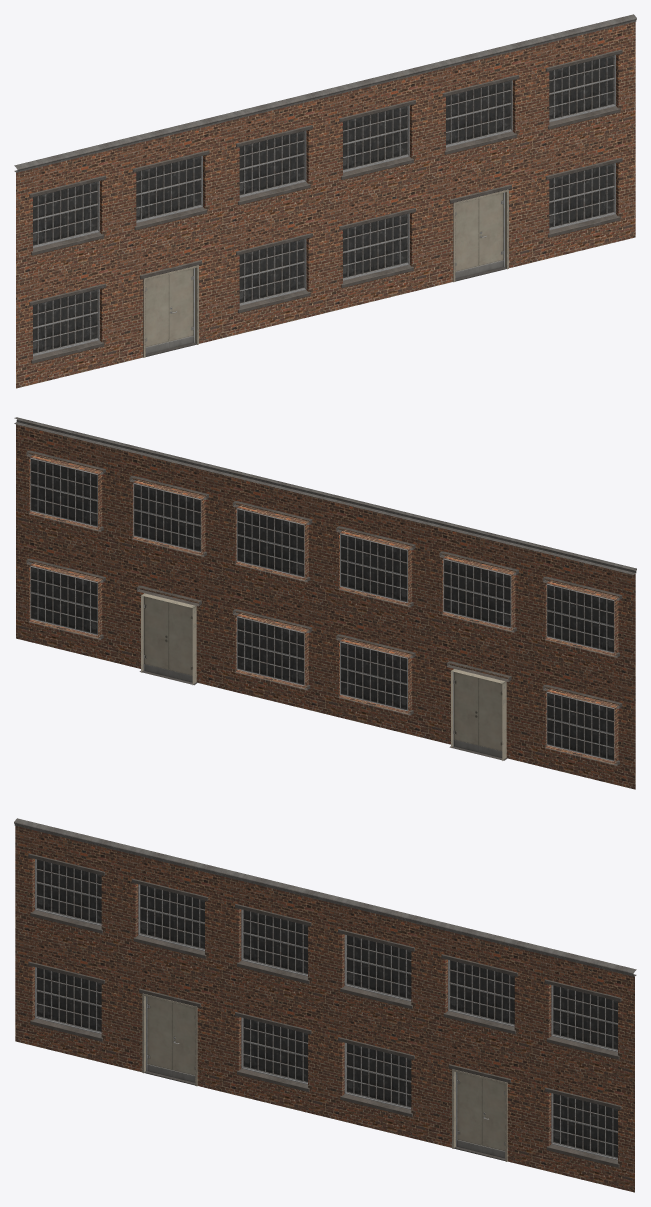
The model's file is tampa_fictional_frontage.low.glb.
3 views of the same model, one above another, from view 1: azimuth 30°, elevation 25°; view 2: azimuth 150°, elevation 25°; view 3: azimuth 330°, elevation 25° (orthographic).
Parts seen in each view (by area): view 1: frontage_25_wall_window_centered_large_01, frontage_15_wall_window_centered_large_01, frontage_0_wall_window_centered_large_01, frontage_10_wall_window_centered_large_01, frontage_2_wall_window_centered_large_01, frontage_7_wall_window_centered_large_01, frontage_27_wall_window_centered_large_01, frontage_22_wall_window_centered_large_01, frontage_12_wall_window_centered_large_01, frontage_17_wall_window_centered_large_01, frontage_5_wall_door_centered_large_01, frontage_20_wall_door_centered_large_01 (+18 smaller); view 2: frontage_0_wall_window_centered_large_01, frontage_25_wall_window_centered_large_01, frontage_15_wall_window_centered_large_01, frontage_10_wall_window_centered_large_01, frontage_2_wall_window_centered_large_01, frontage_27_wall_window_centered_large_01, frontage_22_wall_window_centered_large_01, frontage_7_wall_window_centered_large_01, frontage_17_wall_window_centered_large_01, frontage_12_wall_window_centered_large_01, frontage_5_wall_door_centered_large_01, frontage_20_wall_door_centered_large_01 (+18 smaller); view 3: frontage_0_wall_window_centered_large_01, frontage_10_wall_window_centered_large_01, frontage_25_wall_window_centered_large_01, frontage_15_wall_window_centered_large_01, frontage_27_wall_window_centered_large_01, frontage_2_wall_window_centered_large_01, frontage_22_wall_window_centered_large_01, frontage_7_wall_window_centered_large_01, frontage_17_wall_window_centered_large_01, frontage_12_wall_window_centered_large_01, frontage_5_wall_door_centered_large_01, frontage_20_wall_door_centered_large_01 (+18 smaller).
Part boxes in pixels (box(x1,y1,x2,y2)): frontage_25_wall_window_centered_large_01: box(532, 129, 635, 262); frontage_15_wall_window_centered_large_01: box(325, 180, 428, 312); frontage_0_wall_window_centered_large_01: box(16, 255, 119, 388); frontage_10_wall_window_centered_large_01: box(222, 205, 325, 337); frontage_2_wall_window_centered_large_01: box(16, 148, 119, 280); frontage_7_wall_window_centered_large_01: box(119, 122, 222, 255); frontage_27_wall_window_centered_large_01: box(532, 22, 635, 154); frontage_22_wall_window_centered_large_01: box(429, 47, 532, 179); frontage_12_wall_window_centered_large_01: box(222, 97, 325, 229); frontage_17_wall_window_centered_large_01: box(325, 72, 428, 204); frontage_5_wall_door_centered_large_01: box(119, 230, 222, 363); frontage_20_wall_door_centered_large_01: box(429, 154, 532, 287); frontage_0_wall_window_centered_large_01: box(532, 656, 635, 789); frontage_25_wall_window_centered_large_01: box(16, 530, 119, 663); frontage_15_wall_window_centered_large_01: box(222, 581, 325, 713); frontage_10_wall_window_centered_large_01: box(325, 606, 428, 739); frontage_2_wall_window_centered_large_01: box(532, 550, 635, 681); frontage_27_wall_window_centered_large_01: box(16, 424, 119, 555); frontage_22_wall_window_centered_large_01: box(119, 449, 222, 580); frontage_7_wall_window_centered_large_01: box(429, 525, 532, 656); frontage_17_wall_window_centered_large_01: box(222, 475, 325, 605); frontage_12_wall_window_centered_large_01: box(325, 500, 428, 630); frontage_5_wall_door_centered_large_01: box(429, 631, 532, 764); frontage_20_wall_door_centered_large_01: box(119, 555, 222, 688); frontage_0_wall_window_centered_large_01: box(15, 933, 118, 1066); frontage_10_wall_window_centered_large_01: box(222, 984, 325, 1116); frontage_25_wall_window_centered_large_01: box(531, 1059, 634, 1192); frontage_15_wall_window_centered_large_01: box(325, 1009, 428, 1141); frontage_27_wall_window_centered_large_01: box(531, 952, 634, 1084); frontage_2_wall_window_centered_large_01: box(15, 826, 118, 958); frontage_22_wall_window_centered_large_01: box(428, 926, 531, 1059); frontage_7_wall_window_centered_large_01: box(118, 851, 221, 983); frontage_17_wall_window_centered_large_01: box(325, 901, 428, 1033); frontage_12_wall_window_centered_large_01: box(222, 876, 325, 1008); frontage_5_wall_door_centered_large_01: box(118, 958, 221, 1091); frontage_20_wall_door_centered_large_01: box(428, 1034, 531, 1167).
Bounding box in the file's own units: 18 × 6.15 × 0.2728.
5 materials, 5 textured.
